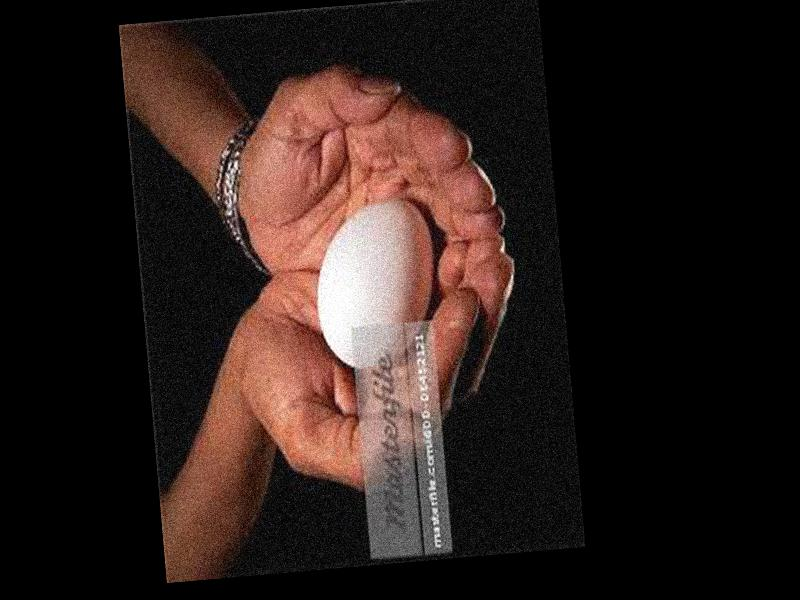Eggs: (308, 195, 444, 371)
